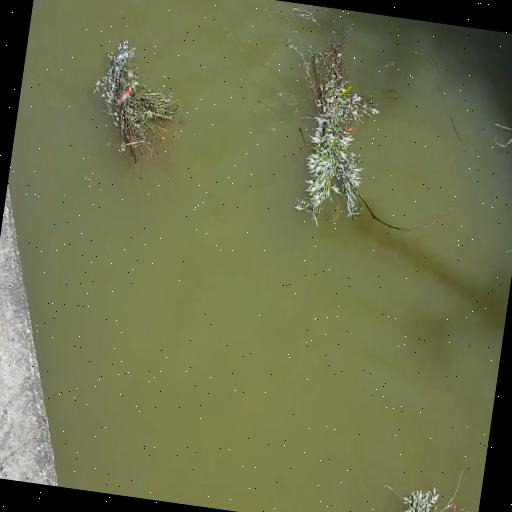twig: (270, 16, 476, 242), (86, 36, 191, 174), (377, 460, 474, 512)
